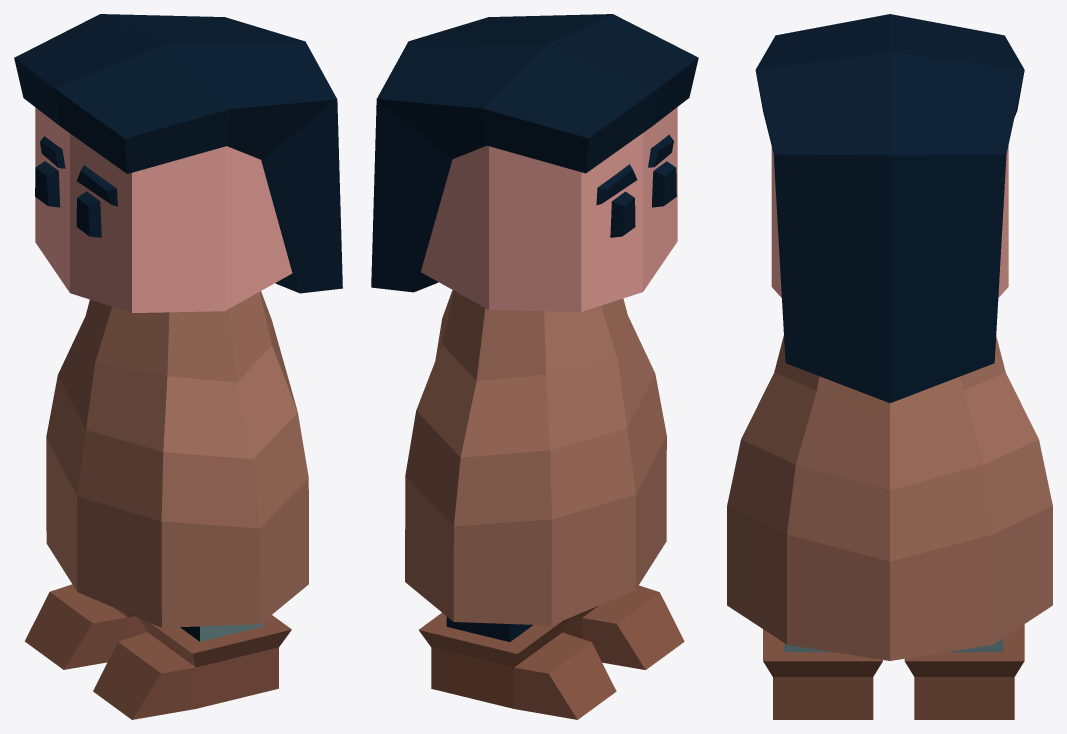
Rendered from SK_Standard_Citizen_B.fbx.
3 views of the same model, side by side, from view 1: azimuth 30°, elevation 25°; view 2: azimuth 150°, elevation 25°; view 3: azimuth 270°, elevation 25° (orthographic). The views are drawn at different scales.
Parts seen in each view (by area): view 1: SK_StandardCharacter_B; view 2: SK_StandardCharacter_B; view 3: SK_StandardCharacter_B.
Boxes of the visible parts, x1=… form: SK_StandardCharacter_B: x1=14, y1=14, x2=342, y2=719; SK_StandardCharacter_B: x1=371, y1=14, x2=698, y2=719; SK_StandardCharacter_B: x1=727, y1=14, x2=1052, y2=719.
Size of the model in its own units: 60.82 by 138 by 63.84.
